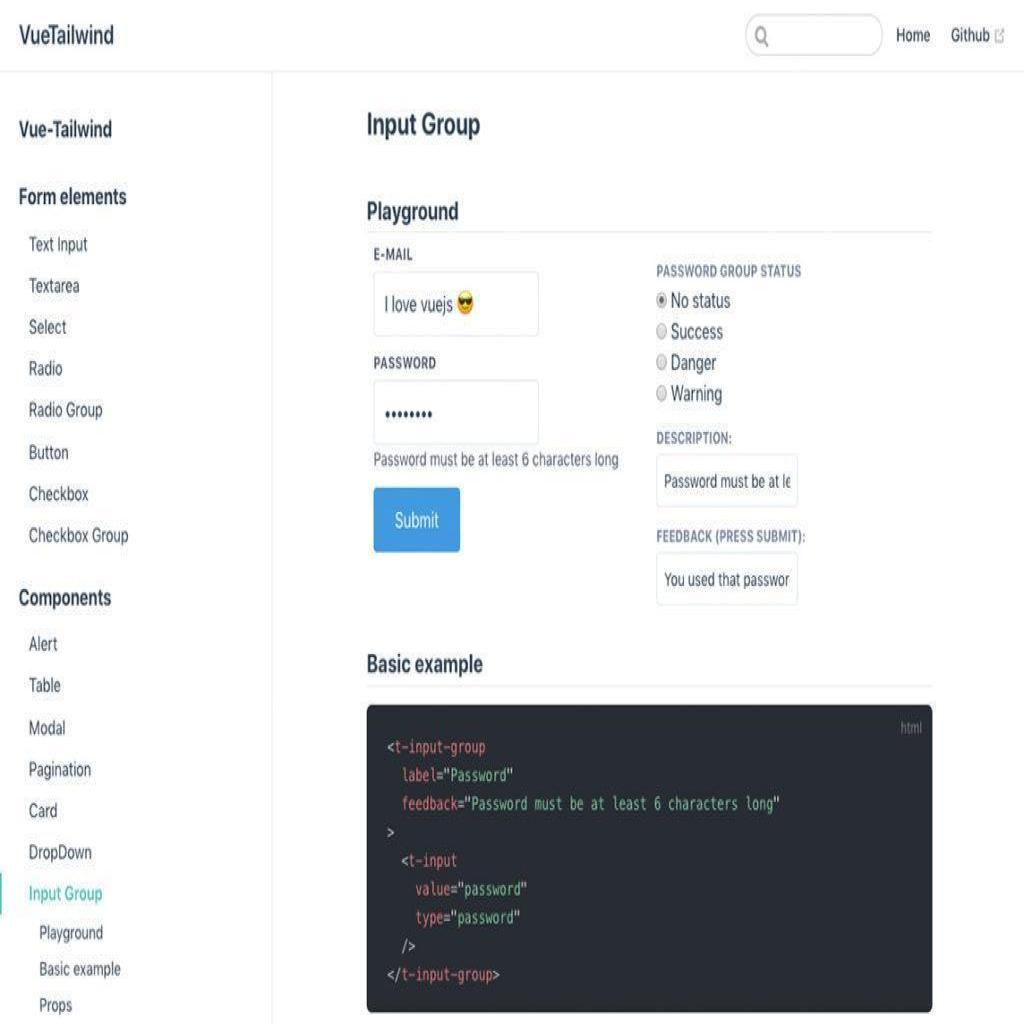button: (374, 486, 463, 556)
input: (373, 374, 540, 446), (373, 269, 538, 335), (655, 450, 800, 509), (655, 548, 801, 606), (744, 12, 884, 57)
label: (651, 258, 805, 282), (654, 526, 806, 545), (670, 288, 732, 312), (656, 426, 730, 445), (670, 319, 725, 344), (669, 349, 718, 373), (373, 355, 438, 371), (671, 384, 723, 404), (371, 243, 412, 263)
radio: (654, 346, 668, 374), (655, 379, 668, 405), (655, 287, 668, 313), (654, 322, 666, 346)
